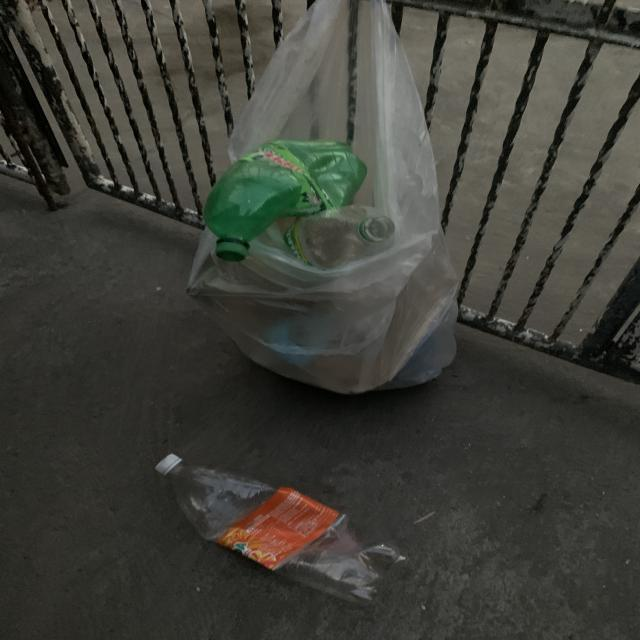Bottle: (156, 454, 406, 602)
